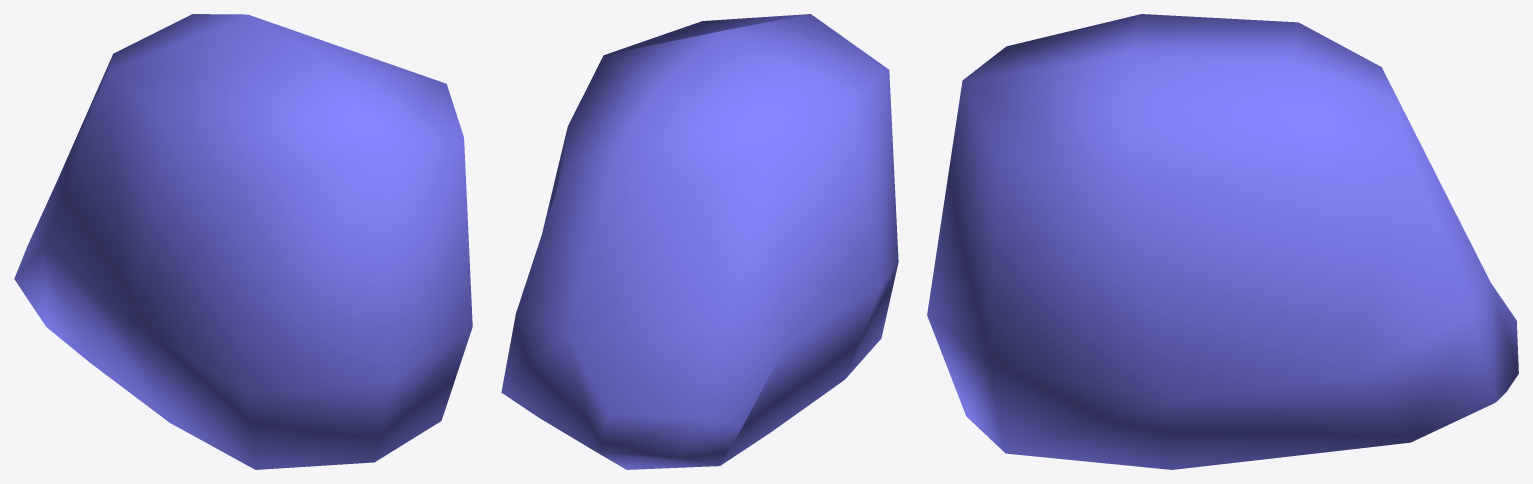
Rendered from Rock03.fbx.
3 views of the same model, side by side, from view 1: azimuth 30°, elevation 25°; view 2: azimuth 150°, elevation 25°; view 3: azimuth 270°, elevation 25° (orthographic). The views are drawn at different scales.
Visible parts, largest first — view 1: Low_Rock03; view 2: Low_Rock03; view 3: Low_Rock03.
Boxes of the visible parts, box(x1,y1,x2,y2) form: Low_Rock03: box(14, 14, 472, 469); Low_Rock03: box(501, 14, 898, 469); Low_Rock03: box(927, 14, 1518, 469).
Size of the model in its own units: 229 by 240 by 338.
